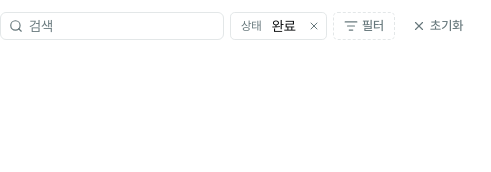
Test: FilterBar › 초기화 버튼이 모든 필터와 검색어를 비운다
This screenshot has width=491, height=172.
In the field labelled "검색": {"x": 123, "y": 26} [23, 13, 223, 39], type "HIRA-1"
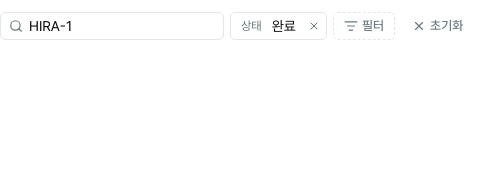
Click the button "초기화": {"x": 438, "y": 26} [401, 12, 474, 40]
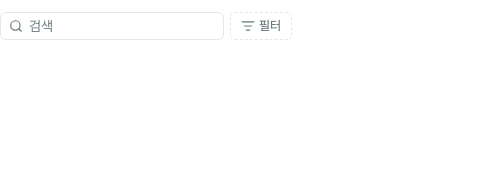
Check: the field labelled "검색" is empty, box [23, 13, 223, 39]
